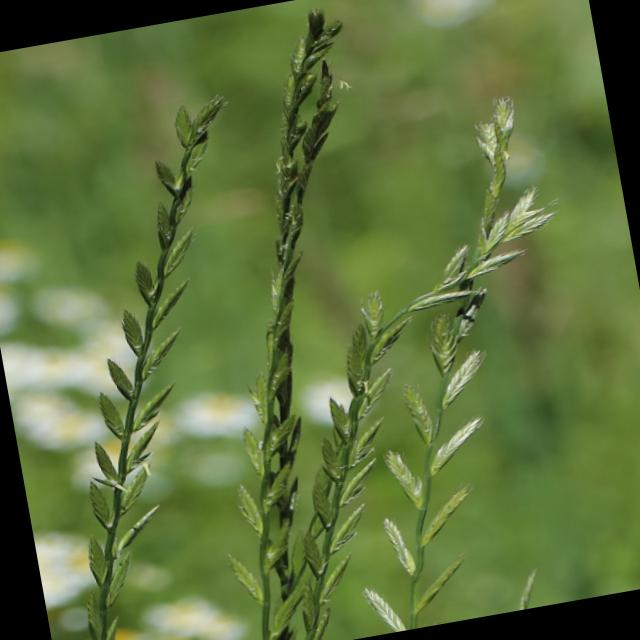Lolium: (143, 15, 465, 640), (0, 93, 325, 640), (285, 95, 614, 635), (251, 190, 622, 640)
